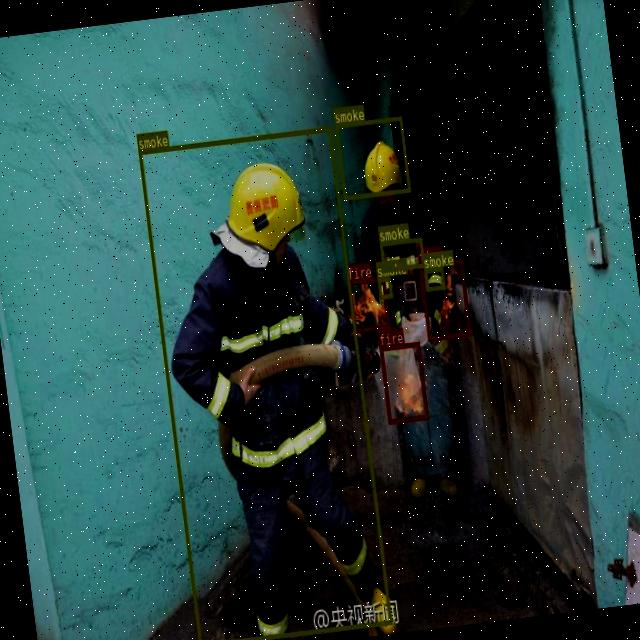fire: (418, 257, 471, 340), (378, 342, 428, 422), (347, 274, 390, 332)
smoke: (137, 126, 391, 640), (334, 115, 410, 200), (378, 236, 424, 272), (422, 266, 445, 290), (376, 275, 392, 299)
